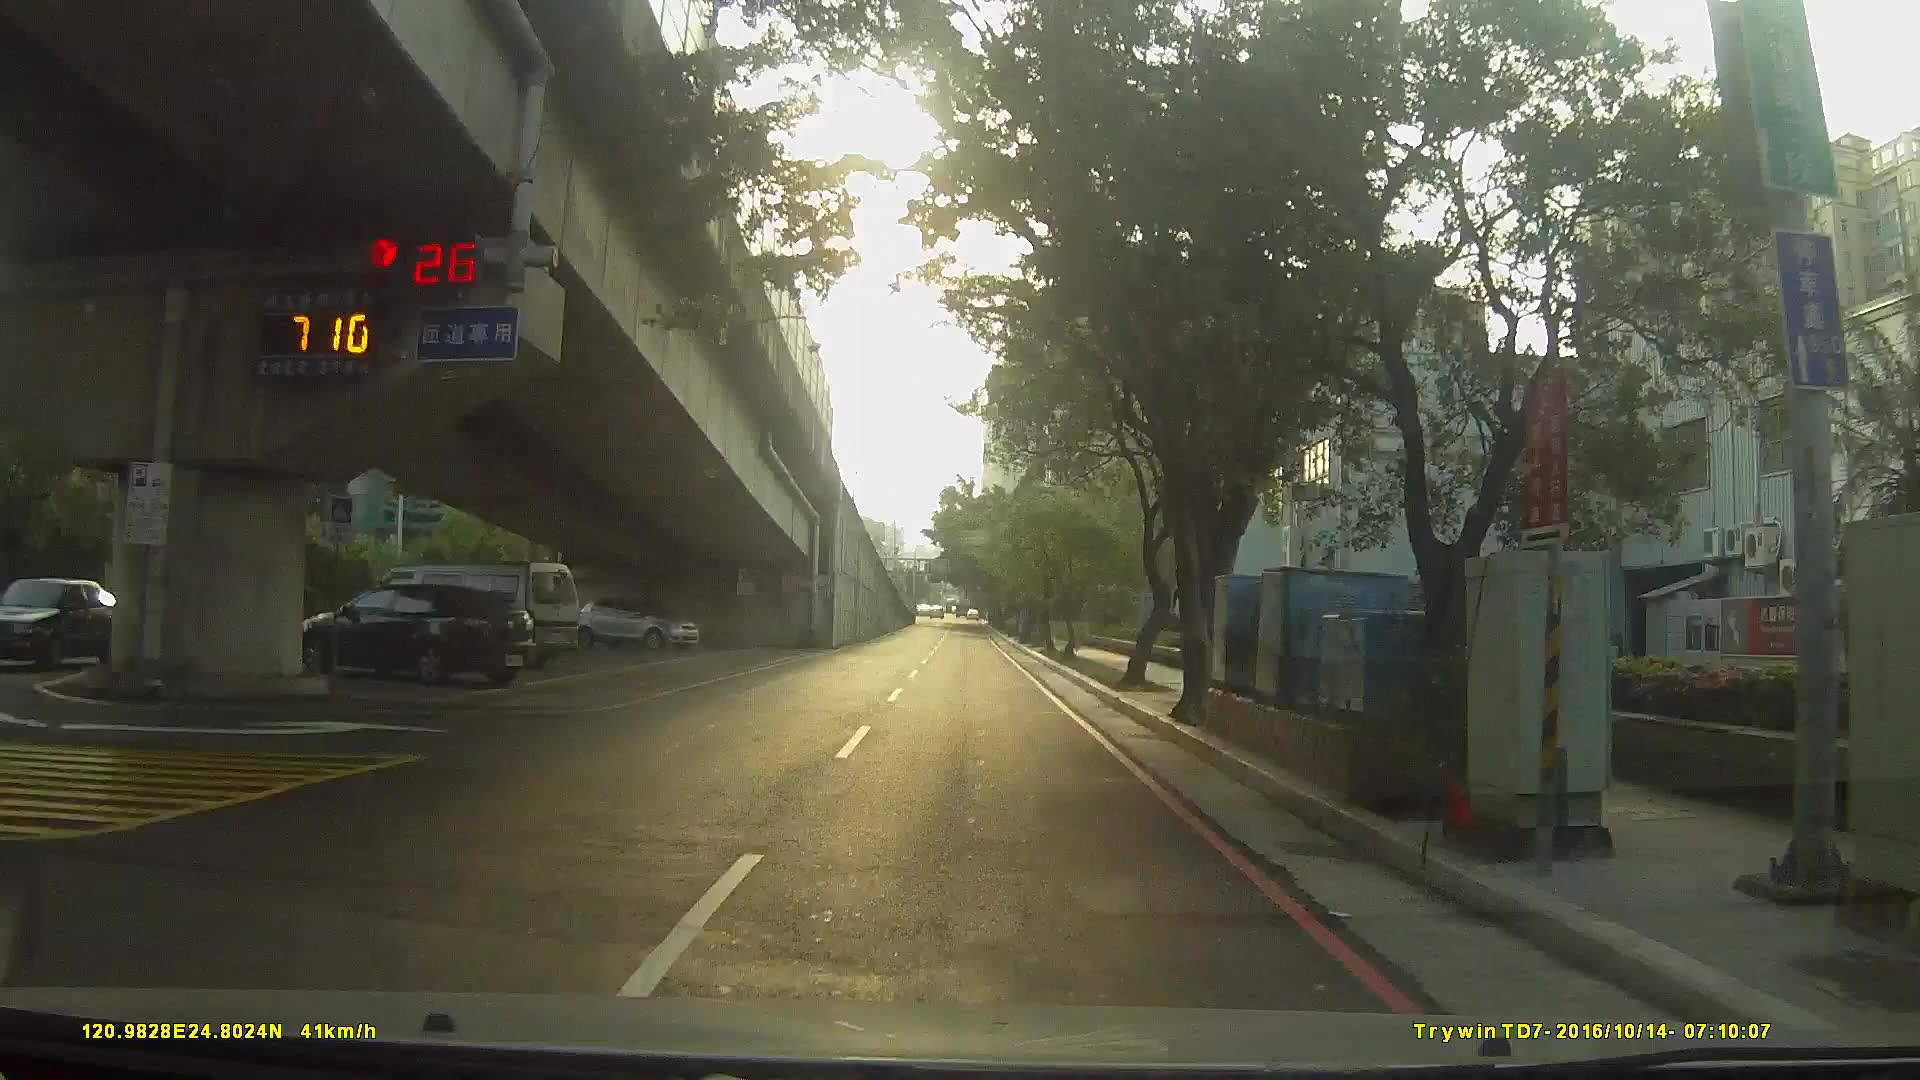vehicle: (276, 583, 527, 691), (352, 560, 578, 673), (7, 579, 142, 676), (570, 593, 699, 651)
